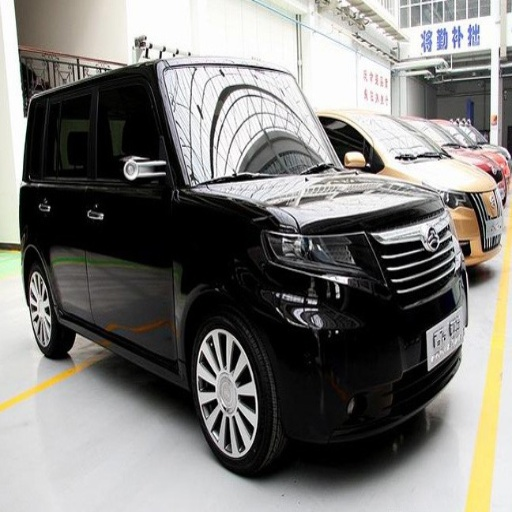front_bumper: (281, 205, 467, 435)
front_right_door: (88, 79, 171, 355)
front_right_light: (269, 228, 358, 270)
